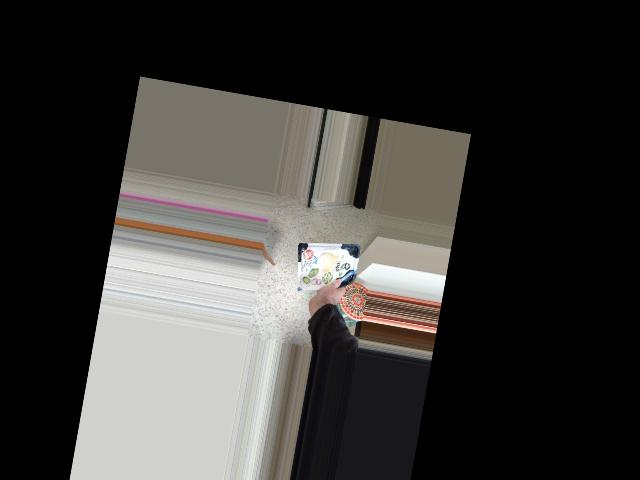cheese: (291, 250, 347, 307)
